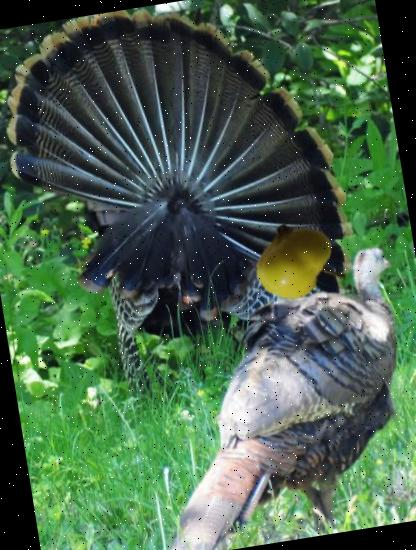Apple: (250, 217, 346, 314)
